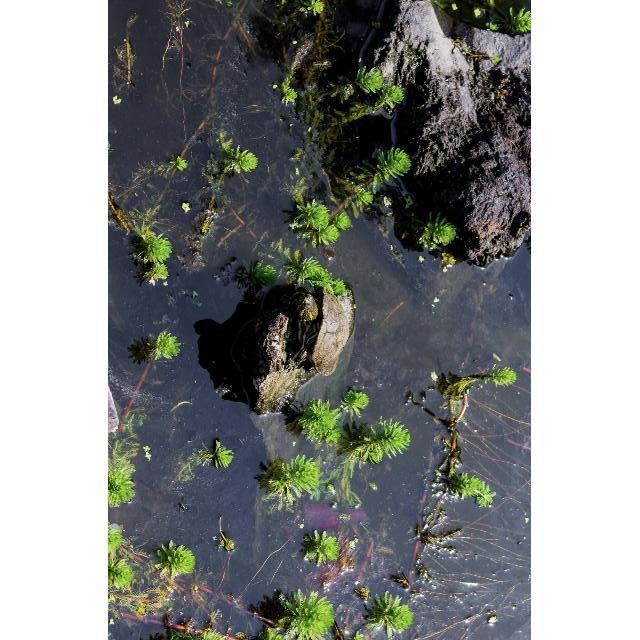turtle: (292, 282, 354, 375)
